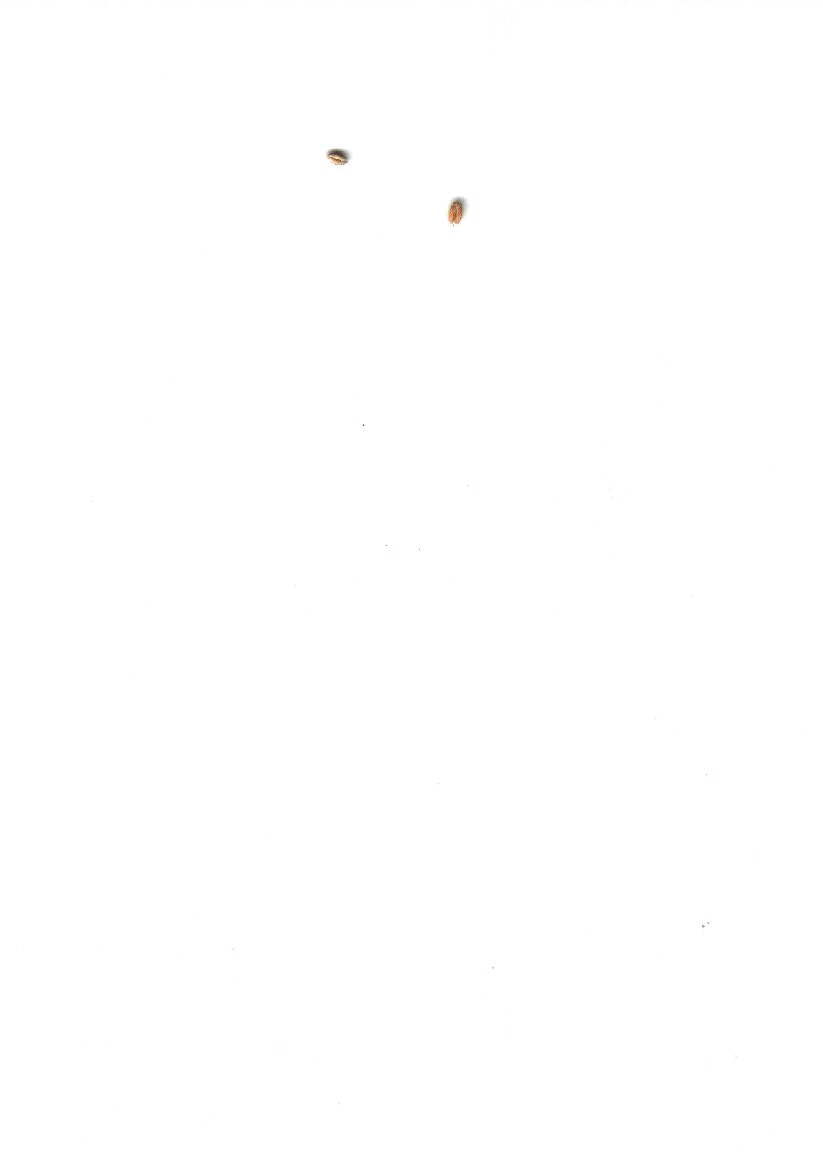grains: (321, 134, 360, 176), (441, 193, 471, 236)
